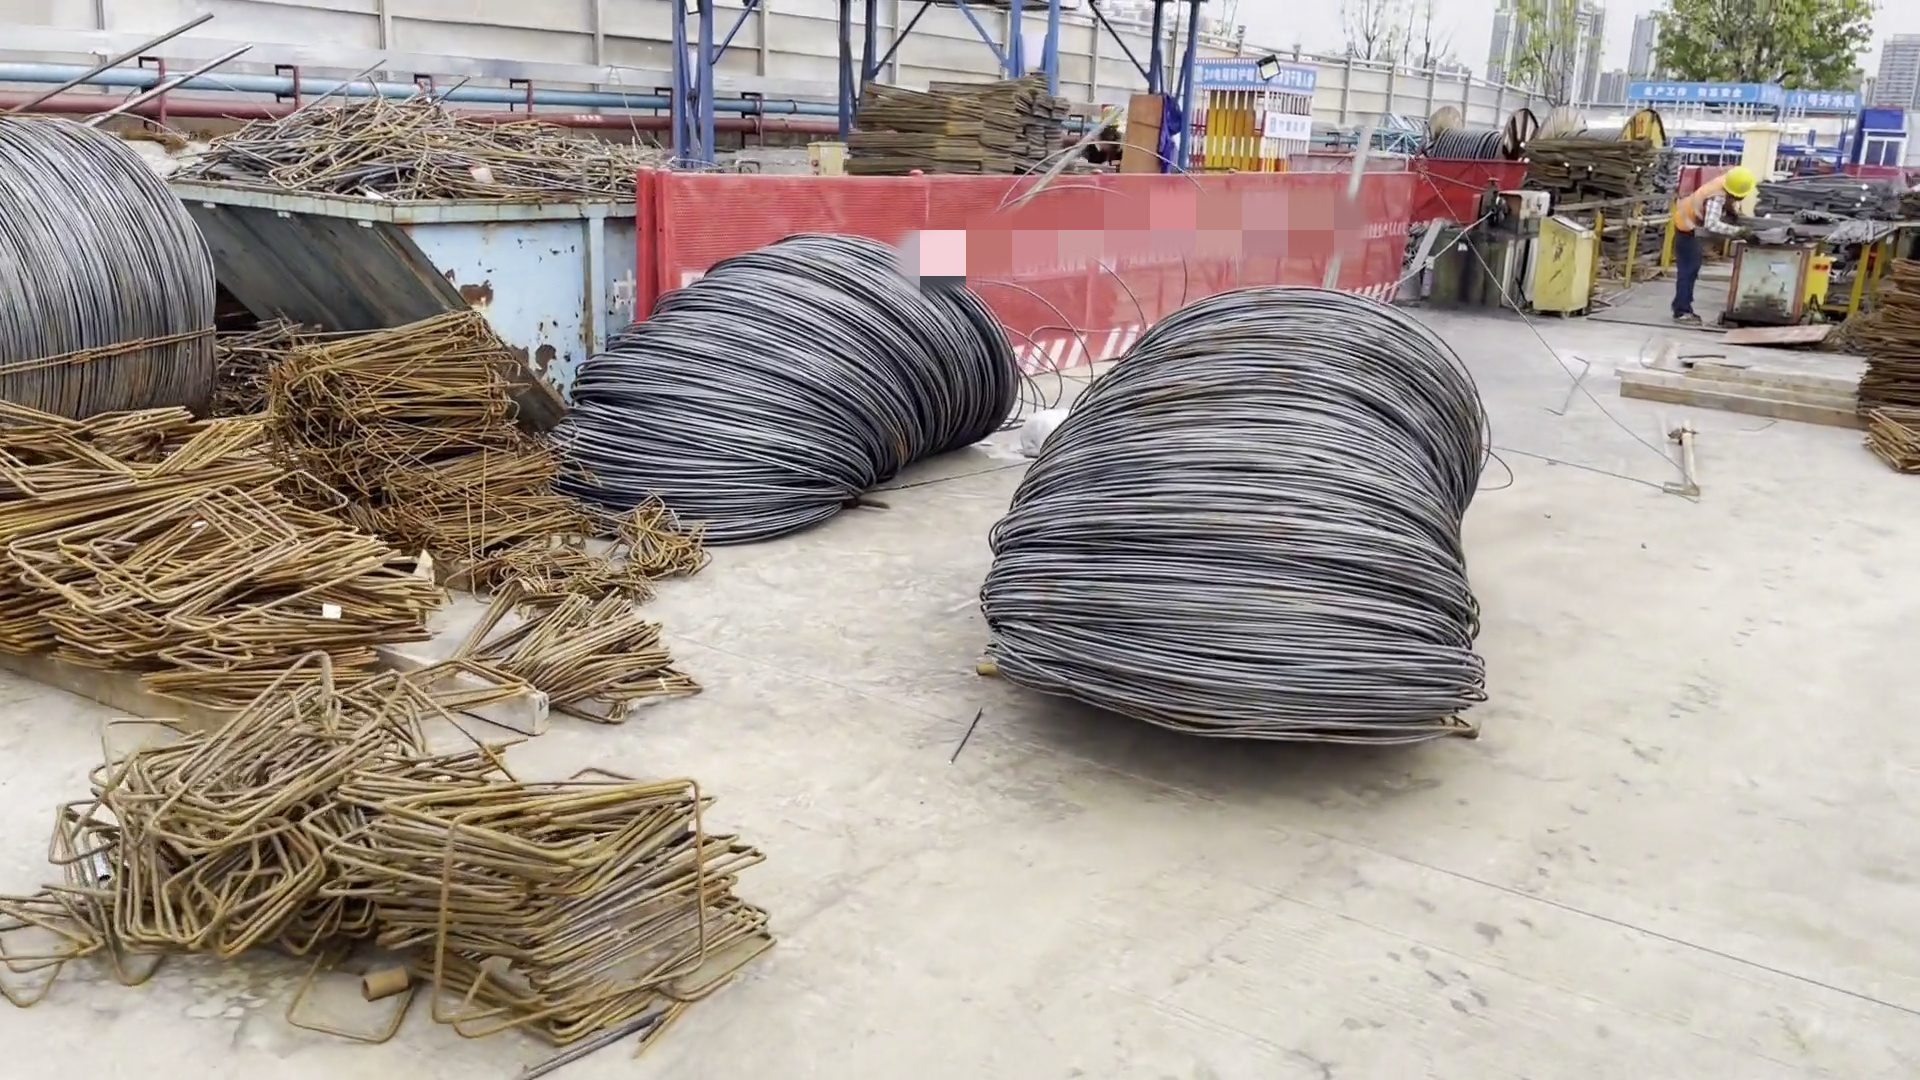cutter: (1723, 227, 1830, 332)
ebox: (1191, 91, 1283, 187), (1526, 211, 1604, 322), (1731, 108, 1785, 184)
fence: (600, 162, 1418, 372), (1407, 150, 1546, 223)
helmet: (1721, 165, 1756, 199)
hopper: (157, 151, 644, 416)
person: (1661, 153, 1759, 335)
slogan: (1611, 65, 1861, 128), (1181, 50, 1327, 103)
vest: (1667, 170, 1729, 258)
